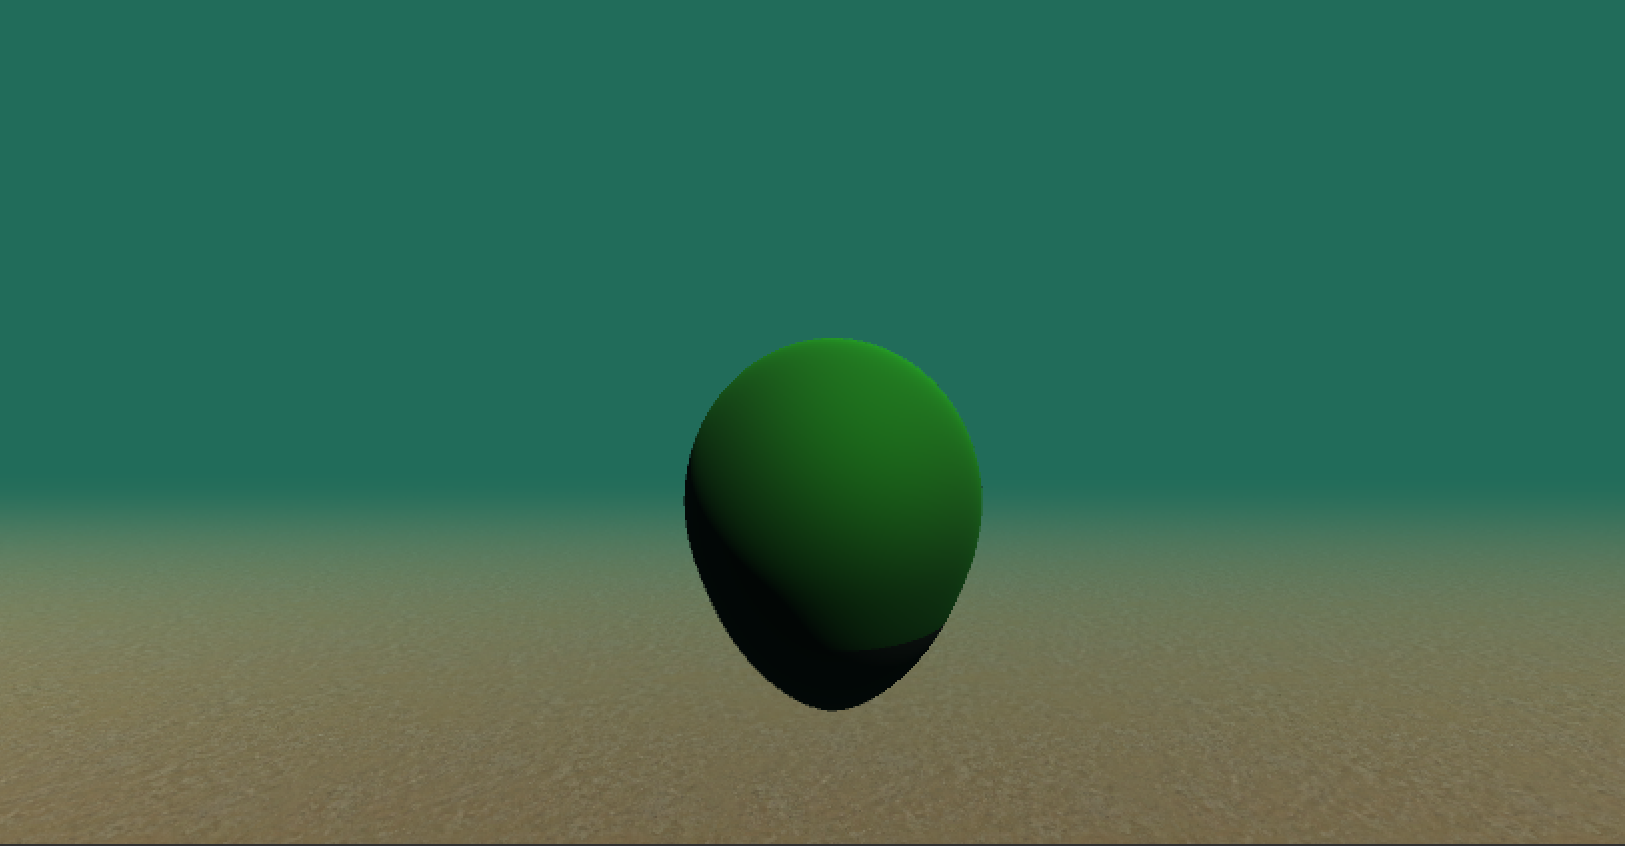green buoy: (680, 336, 989, 715)
